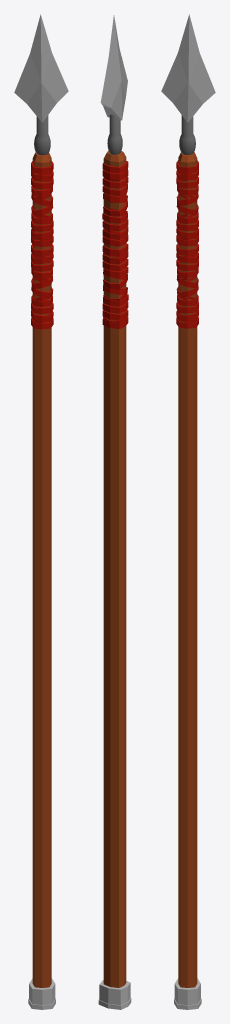
Rendered from Spear.glb.
3 renders of one model, left to right at view 1: azimuth 90°, elevation 25°; view 2: azimuth 150°, elevation 25°; view 3: azimuth 270°, elevation 25°, orthographic.
Visible parts, largest first — view 1: Spear; view 2: Spear; view 3: Spear.
Boxes of the visible parts, left/top/right/bottom form: Spear: left=14, top=14, right=68, bottom=1009; Spear: left=98, top=15, right=131, bottom=1009; Spear: left=161, top=14, right=215, bottom=1009.
Size of the model in its own units: 716 by 25399 by 1268.
